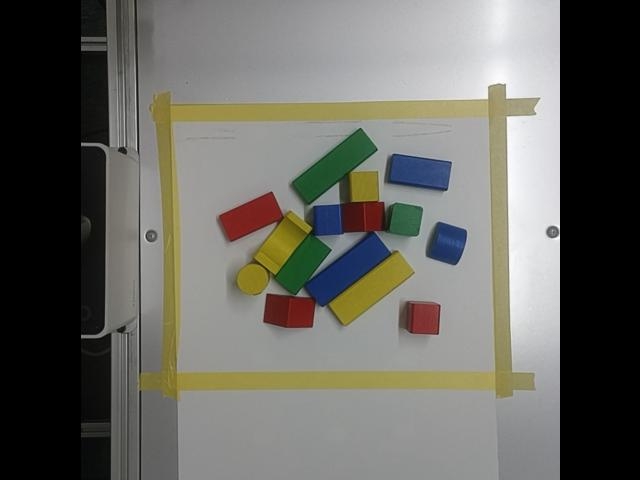blue_cube: (312, 205, 342, 236)
blue_longrect: (304, 233, 389, 306)
blue_rect: (387, 155, 451, 191)
cylinder: (236, 264, 268, 295)
green_cube: (386, 203, 422, 237)
green_longrect: (292, 129, 376, 204)
green_rect: (274, 235, 330, 294)
half_cylinder: (426, 223, 466, 265)
red_cube: (406, 302, 440, 335)
red_rect: (219, 193, 282, 241)
triangle: (263, 294, 314, 328), (339, 202, 385, 233)
yellow_archrect: (254, 214, 309, 275)
yellow_cube: (349, 172, 378, 202)
yellow_longrect: (327, 252, 413, 326)
